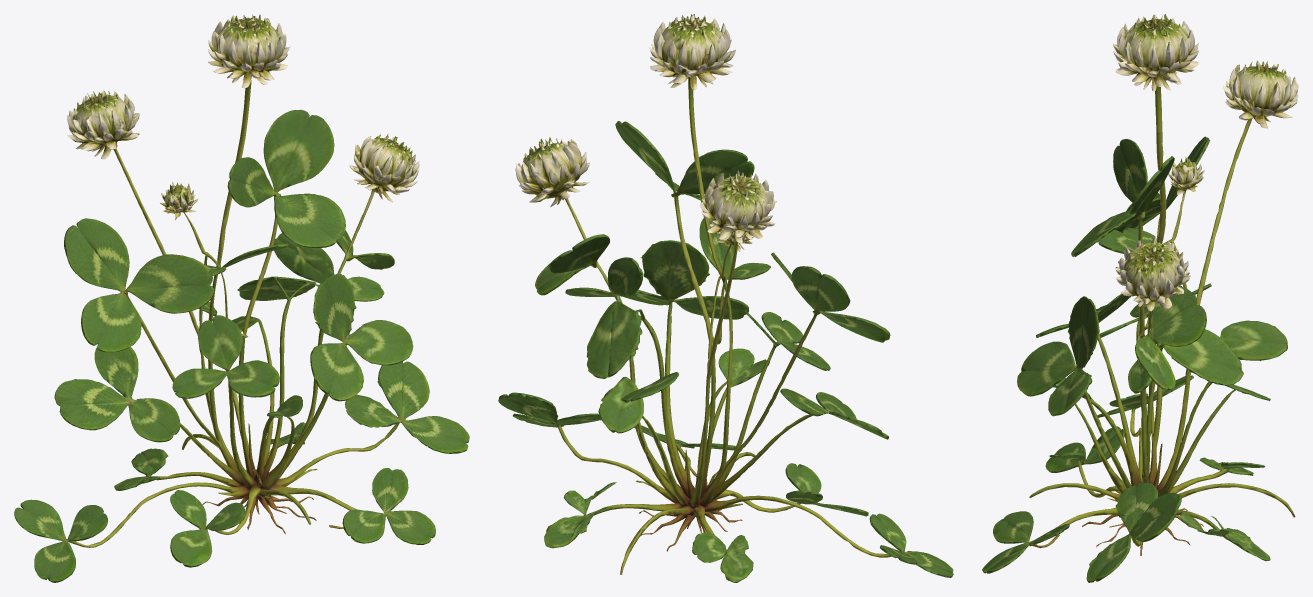
The model's file is WhiteClover.glb.
3 views of the same model, side by side, from view 1: azimuth 30°, elevation 25°; view 2: azimuth 150°, elevation 25°; view 3: azimuth 270°, elevation 25° (orthographic). The views are drawn at different scales.
Visible parts, largest first — view 1: Mesh_0; view 2: Mesh_0; view 3: Mesh_0.
Boxes of the visible parts, x1,y1,x2,y2 form: Mesh_0: (14,14,469,582); Mesh_0: (498,14,953,582); Mesh_0: (982,14,1298,582).
Bounding box in the file's own units: 0.9008 × 1 × 0.5645.
Materials: 1 (1 with a texture image).
